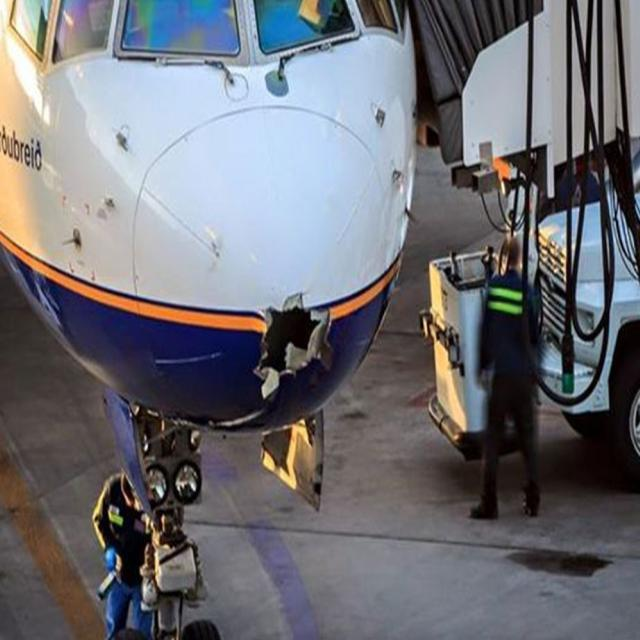crack: (257, 295, 341, 390)
